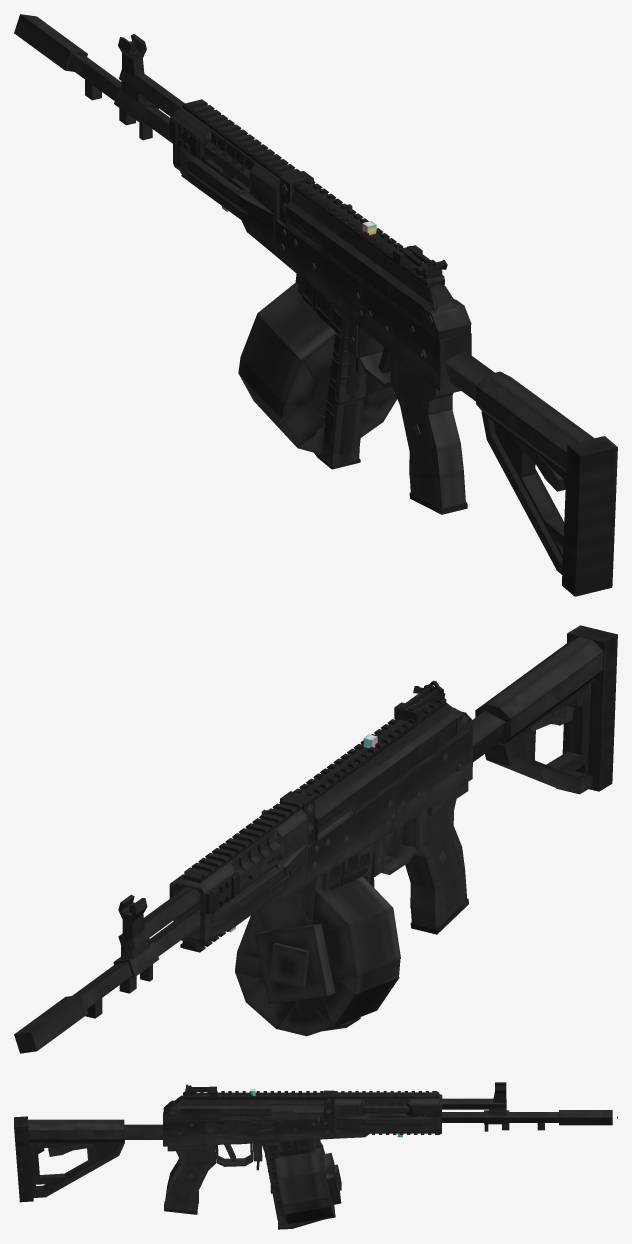
3 renders of one model, top to bottom at view 1: azimuth 30°, elevation 25°; view 2: azimuth 150°, elevation 25°; view 3: azimuth 270°, elevation 25°, orthographic. The views are drawn at different scales.
Parts seen in each view (by area): view 1: gun, bone16, bone29, pgriptrigger, handguard, stock, magazine1, barrel, muzbrake, lowerbody, bone14, bone15 (+3 smaller); view 2: gun, bone30, handguard, bone16, pgriptrigger, stock, bone29, barrel, muzbrake, lowerbody, bone14, magazine1 (+1 smaller); view 3: gun, handguard, bone16, pgriptrigger, bone29, stock, barrel, bone30, bolt, magazine1, switch, muzbrake (+6 smaller).
Part boxes in pixels (left/top/right/bottom): gun: left=114, top=34, right=471, bottom=371; bone16: left=481, top=411, right=617, bottom=596; bone29: left=238, top=282, right=397, bottom=454; pgriptrigger: left=348, top=318, right=467, bottom=514; handguard: left=173, top=99, right=300, bottom=254; stock: left=444, top=351, right=594, bottom=474; magazine1: left=302, top=283, right=366, bottom=454; barrel: left=68, top=54, right=249, bottom=188; muzbrake: left=14, top=14, right=87, bottom=71; lowerbody: left=359, top=308, right=455, bottom=390; bone14: left=275, top=241, right=359, bottom=325; bone15: left=428, top=285, right=471, bottom=332; gun: left=113, top=686, right=472, bottom=993; bone30: left=235, top=890, right=398, bottom=1036; handguard: left=173, top=798, right=308, bottom=952; bone16: left=485, top=625, right=617, bottom=794; pgriptrigger: left=370, top=782, right=468, bottom=934; stock: left=472, top=636, right=603, bottom=762; bone29: left=255, top=876, right=400, bottom=995; barrel: left=72, top=863, right=268, bottom=1018; muzbrake: left=14, top=994, right=88, bottom=1053; lowerbody: left=391, top=759, right=472, bottom=832; bone14: left=307, top=817, right=391, bottom=884; magazine1: left=316, top=844, right=373, bottom=889; gun: left=163, top=1082, right=509, bottom=1137; handguard: left=334, top=1091, right=442, bottom=1138; bone16: left=14, top=1116, right=124, bottom=1202; pgriptrigger: left=164, top=1143, right=262, bottom=1214; bone29: left=275, top=1148, right=341, bottom=1225; stock: left=27, top=1119, right=162, bottom=1143; barrel: left=365, top=1112, right=558, bottom=1130; bone30: left=285, top=1143, right=341, bottom=1225; bolt: left=260, top=1104, right=323, bottom=1126; magazine1: left=261, top=1139, right=319, bottom=1224; switch: left=204, top=1119, right=274, bottom=1138; muzbrake: left=559, top=1110, right=612, bottom=1125.
Size of the model in its own units: 82.8 by 181 by 699.
Materials: 1 (1 with a texture image).
